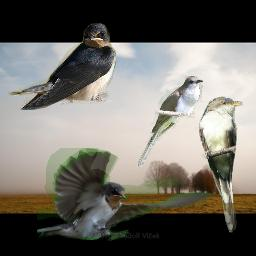Cuckoo: (136, 76, 203, 168), (199, 96, 243, 233)
Swallow: (37, 148, 212, 241), (8, 23, 116, 110)
